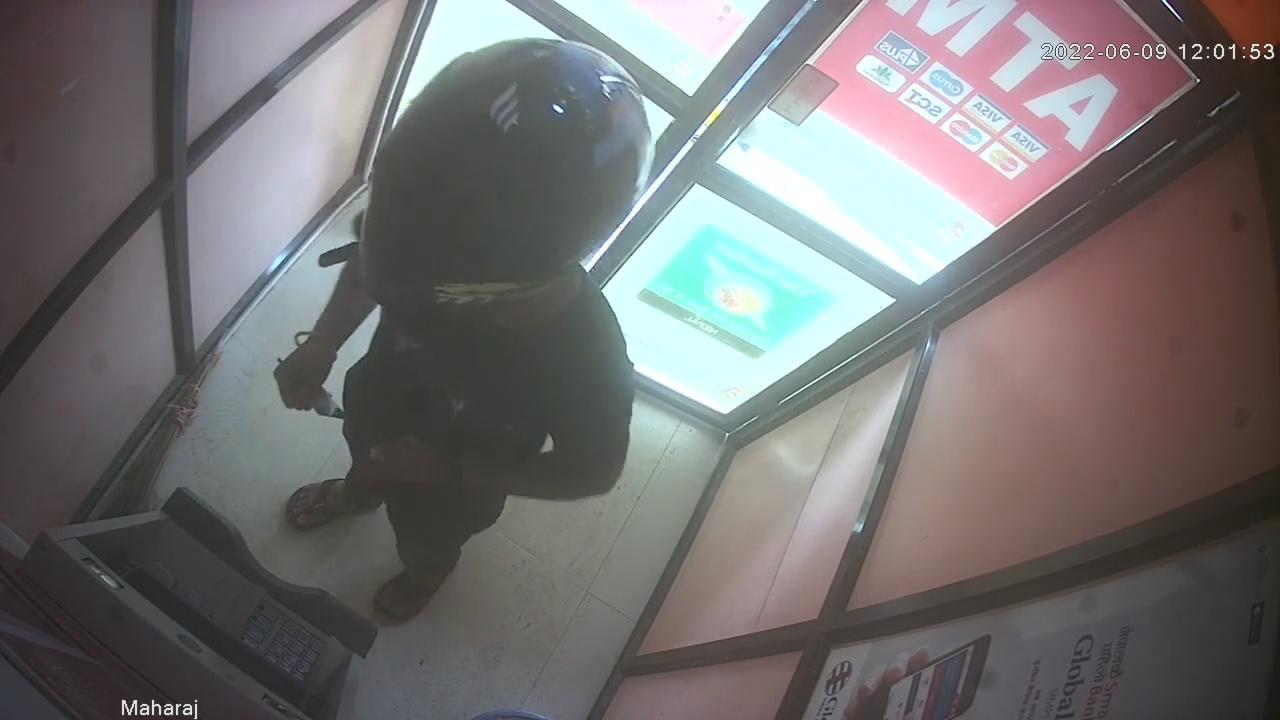helmet: (351, 36, 654, 311)
person: (271, 37, 654, 627)
